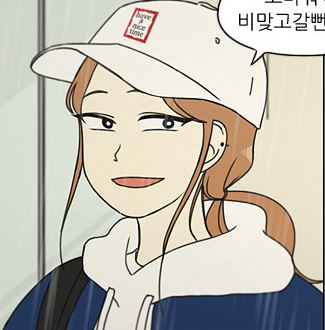hat: (29, 1, 270, 111)
